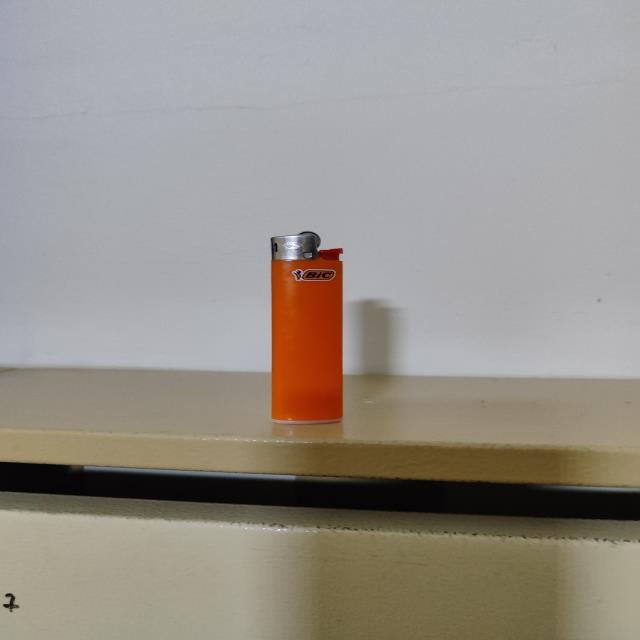lighter: (272, 232, 342, 423)
